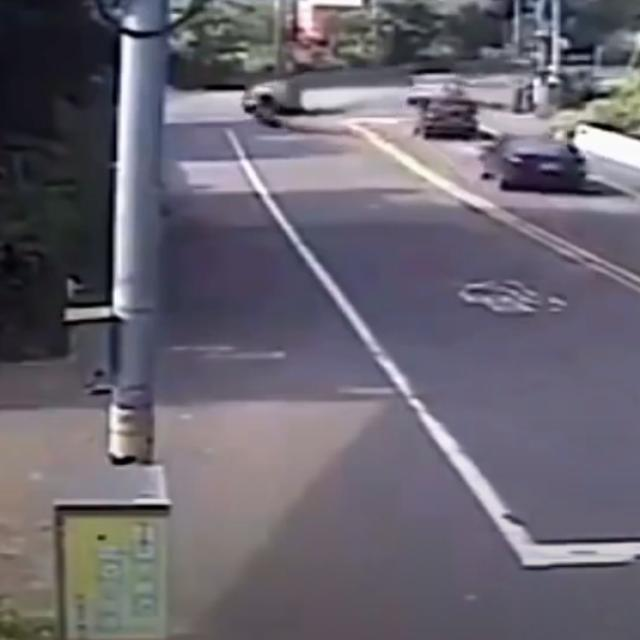accident: (240, 75, 348, 139)
non-accident: (408, 70, 480, 140)
